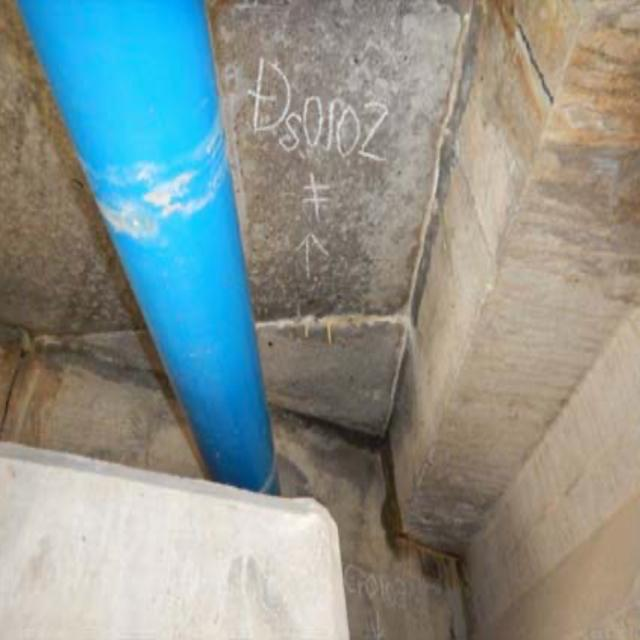freelime: (261, 306, 433, 383)
leakage: (291, 403, 480, 580)
